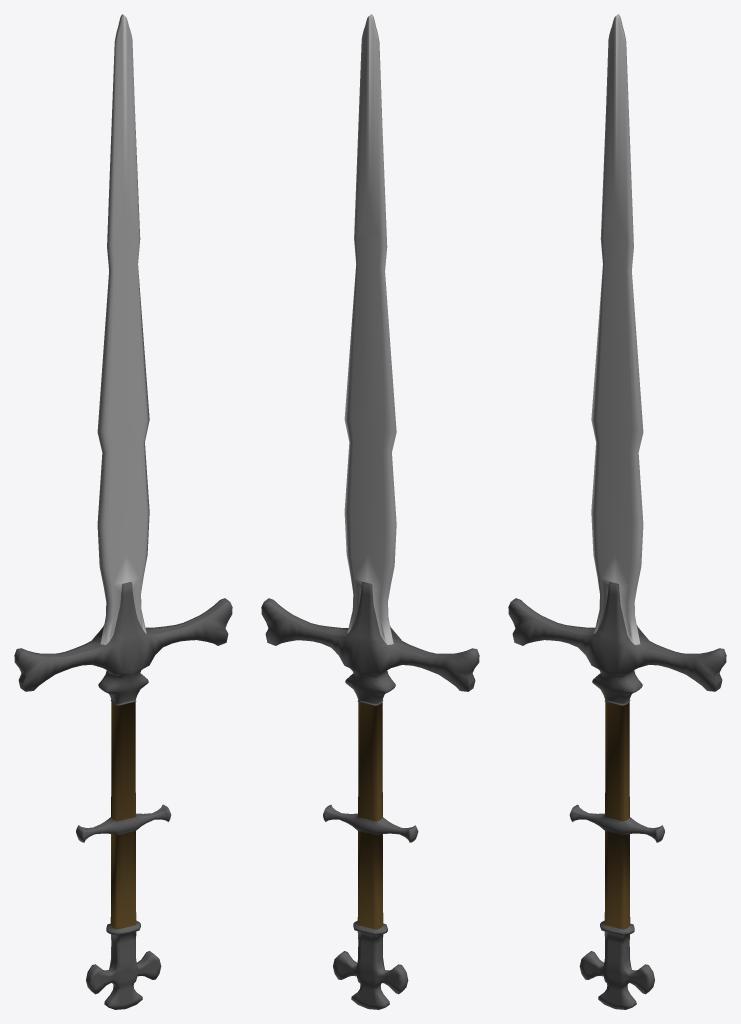
The model's file is Great Holy Sword_2.0.fbx.
3 renders of one model, left to right at view 1: azimuth 30°, elevation 25°; view 2: azimuth 150°, elevation 25°; view 3: azimuth 330°, elevation 25°, orthographic.
Visible parts, largest first — view 1: Great Holy Sword; view 2: Great Holy Sword; view 3: Great Holy Sword.
Part boxes in pixels (x1,y1,x2,y2): Great Holy Sword: (14, 14, 232, 1009); Great Holy Sword: (261, 14, 479, 1009); Great Holy Sword: (508, 14, 726, 1009).
Bounding box in the file's own units: 155 × 690 × 23.1.
